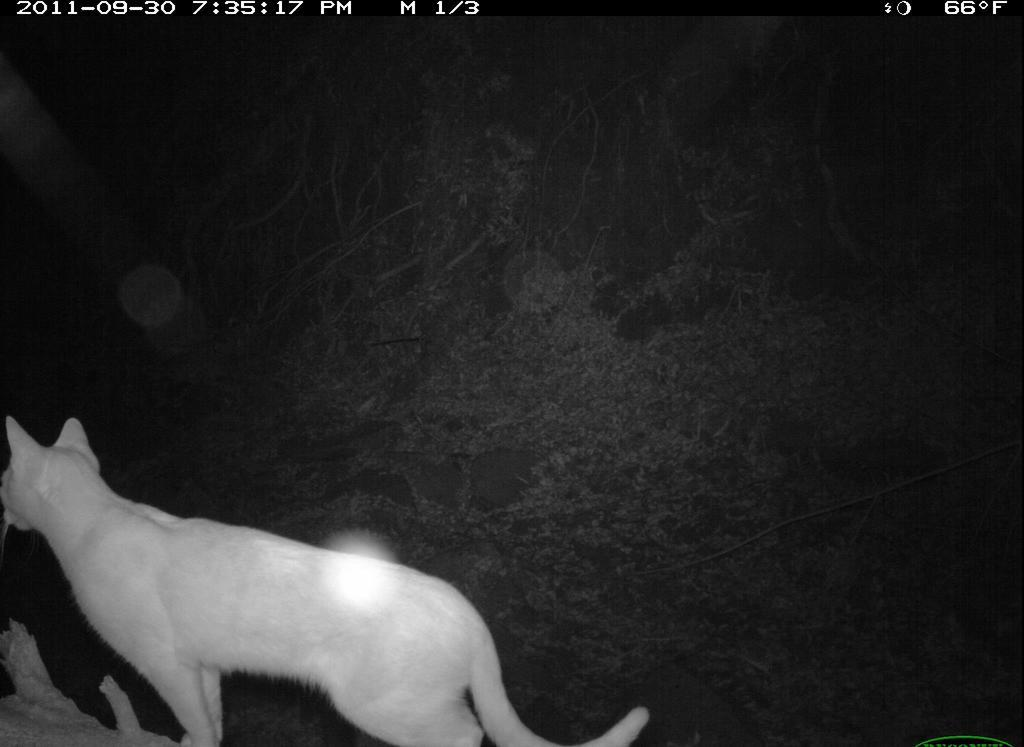cat: (2, 399, 665, 747)
